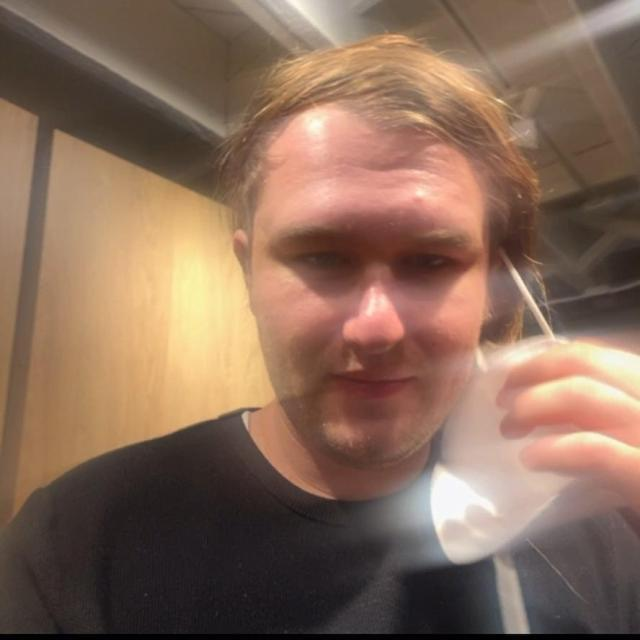no hat: (198, 23, 529, 470)
